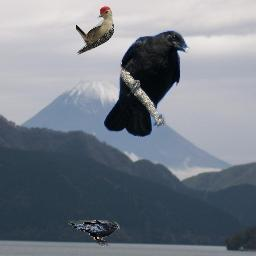Crow: (103, 30, 190, 138), (68, 220, 120, 247)
Woodpecker: (76, 6, 114, 56)
